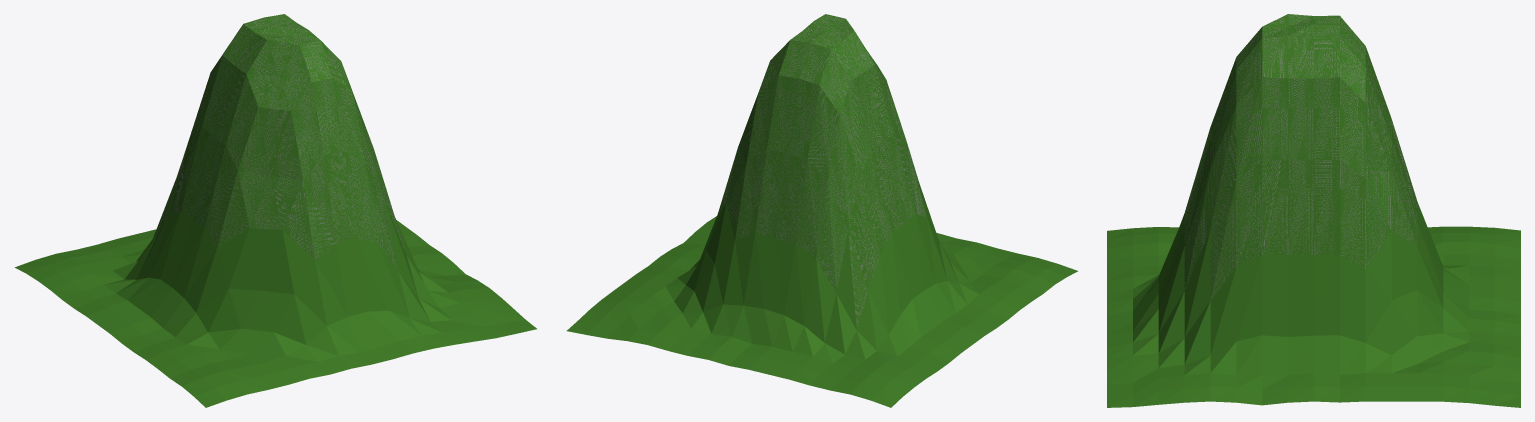
File: ground11.fbx
3 views of the same model, side by side, from view 1: azimuth 30°, elevation 25°; view 2: azimuth 150°, elevation 25°; view 3: azimuth 270°, elevation 25° (orthographic). The views are drawn at different scales.
Parts seen in each view (by area): view 1: Plane; view 2: Plane; view 3: Plane.
Boxes of the visible parts, x1=… form: Plane: x1=14, y1=14, x2=536, y2=407; Plane: x1=567, y1=14, x2=1077, y2=407; Plane: x1=1107, y1=14, x2=1520, y2=407.
Size of the model in its own units: 100 by 78.8 by 100.
Materials: 1 (1 with a texture image).
